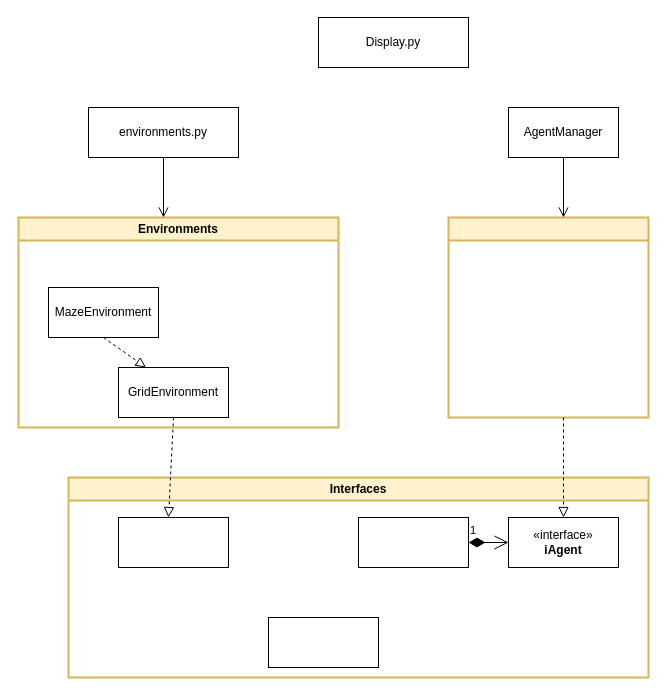
Image size: 666x696. Some labels were removed from this diagram. Here are the shapes that lost their labels. From the top down, the box of each, then its label:
(447, 216, 649, 418): Agents
(118, 516, 228, 568): «interface» iEnvironment
(358, 516, 468, 568): Object
(268, 616, 378, 668): «interface» iTrainingMethod
